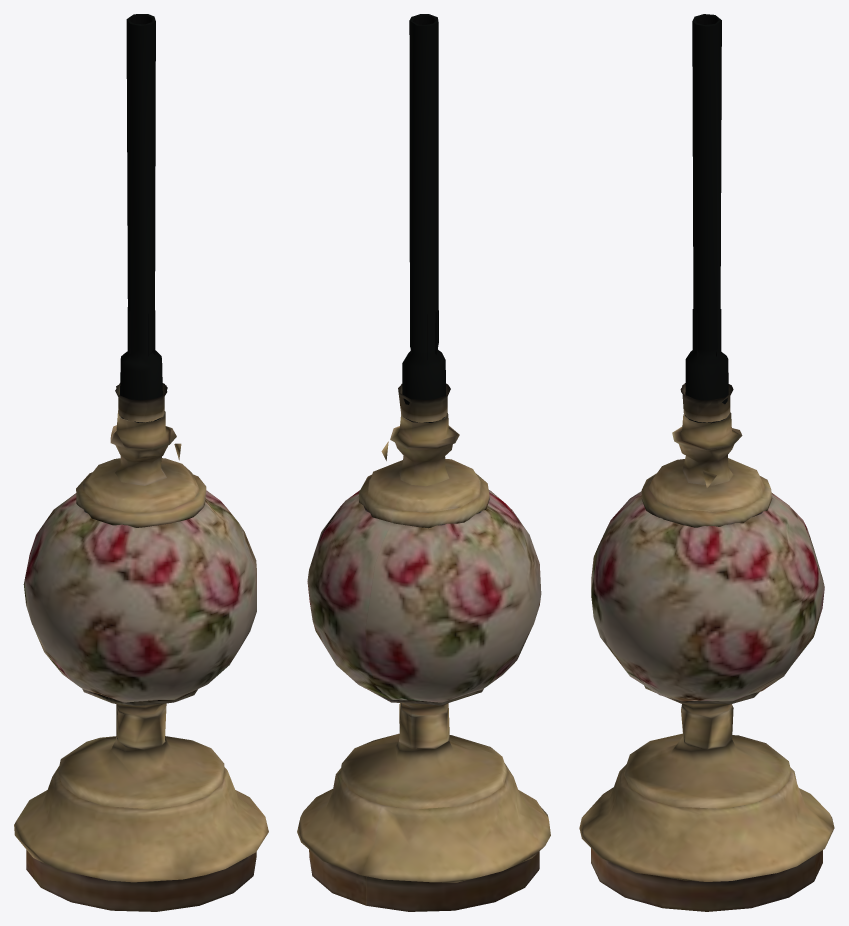
File: vintage_oil_lamp.gltf
3 views of the same model, side by side, from view 1: azimuth 30°, elevation 25°; view 2: azimuth 150°, elevation 25°; view 3: azimuth 270°, elevation 25° (orthographic).
Parts seen in each view (by area): view 1: vintage_oil_lamp, vintage_oil_lamp_glass; view 2: vintage_oil_lamp, vintage_oil_lamp_glass; view 3: vintage_oil_lamp, vintage_oil_lamp_glass.
Boxes of the visible parts, <box> form: vintage_oil_lamp: <box>14,410,268,911</box>; vintage_oil_lamp_glass: <box>115,14,167,422</box>; vintage_oil_lamp: <box>297,413,550,911</box>; vintage_oil_lamp_glass: <box>398,14,450,422</box>; vintage_oil_lamp: <box>579,412,834,911</box>; vintage_oil_lamp_glass: <box>680,14,733,423</box>.
Size of the model in its own units: 0.2179 by 0.8016 by 0.22.
Materials: 3 (3 with a texture image).
